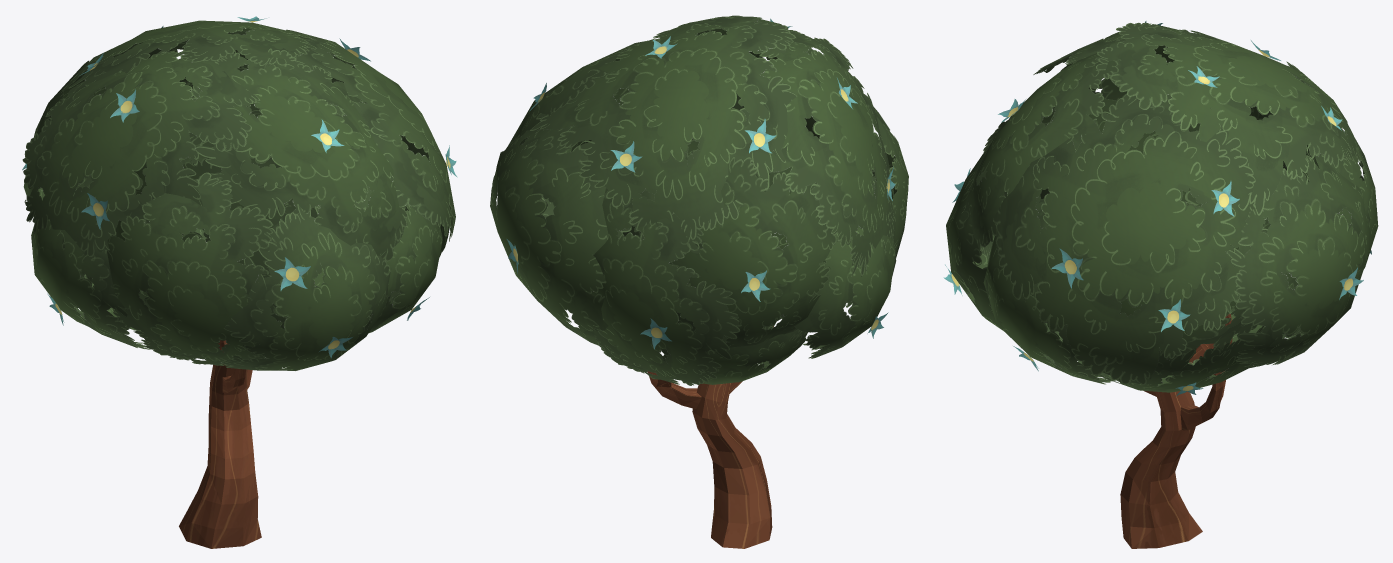
File: treezap.dae
3 renders of one model, left to right at view 1: azimuth 30°, elevation 25°; view 2: azimuth 150°, elevation 25°; view 3: azimuth 270°, elevation 25°, orthographic.
Parts seen in each view (by area): view 1: ZapAppleTree_Leaves, ZapAppleTree_Trunk, ZapAppleTree_Flowers; view 2: ZapAppleTree_Leaves, ZapAppleTree_Trunk, ZapAppleTree_Flowers; view 3: ZapAppleTree_Leaves, ZapAppleTree_Trunk, ZapAppleTree_Flowers.
Part boxes in pixels (<box>): ZapAppleTree_Leaves: <box>22,20,455,370</box>; ZapAppleTree_Trunk: <box>179,340,261,548</box>; ZapAppleTree_Flowers: <box>22,16,457,358</box>; ZapAppleTree_Leaves: <box>490,15,908,385</box>; ZapAppleTree_Trunk: <box>647,326,773,548</box>; ZapAppleTree_Flowers: <box>506,18,895,349</box>; ZapAppleTree_Leaves: <box>946,22,1378,392</box>; ZapAppleTree_Trunk: <box>1120,314,1232,548</box>; ZapAppleTree_Flowers: <box>943,21,1371,396</box>.
Bounding box in the file's own units: 5.56 × 6.85 × 5.5.
